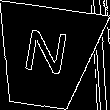N_S: (20, 29, 73, 85)
